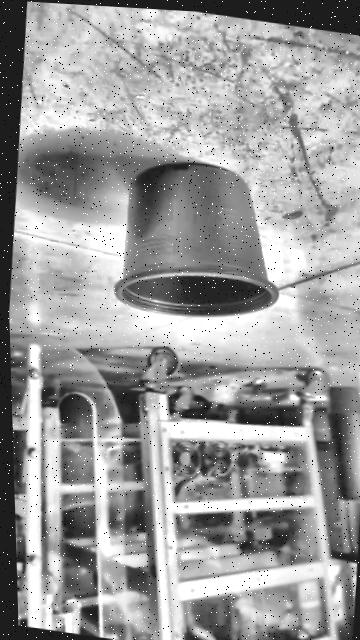pot: (109, 151, 289, 332)
